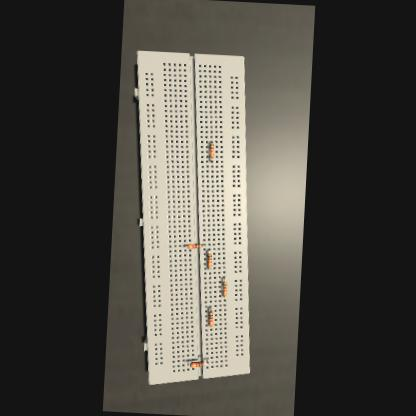breadboard: (118, 51, 265, 390)
resistor: (190, 360, 204, 367), (207, 311, 213, 326), (221, 281, 227, 295), (206, 253, 212, 267), (208, 143, 214, 157), (186, 242, 200, 248)
wire: (204, 356, 206, 364), (188, 359, 190, 365), (223, 276, 224, 282), (209, 305, 210, 311), (208, 248, 209, 254), (210, 158, 211, 162), (200, 244, 204, 245), (184, 245, 186, 247), (208, 268, 210, 269), (210, 140, 211, 142), (224, 296, 225, 297)
